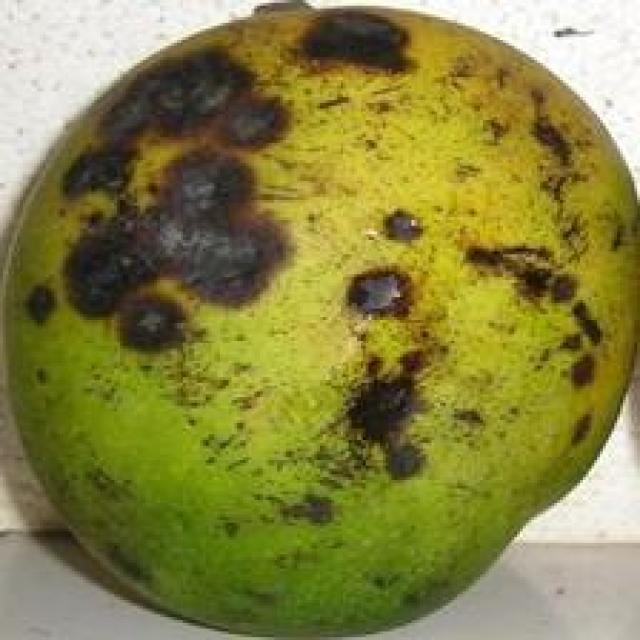Bad_Mango: (8, 5, 640, 633)
